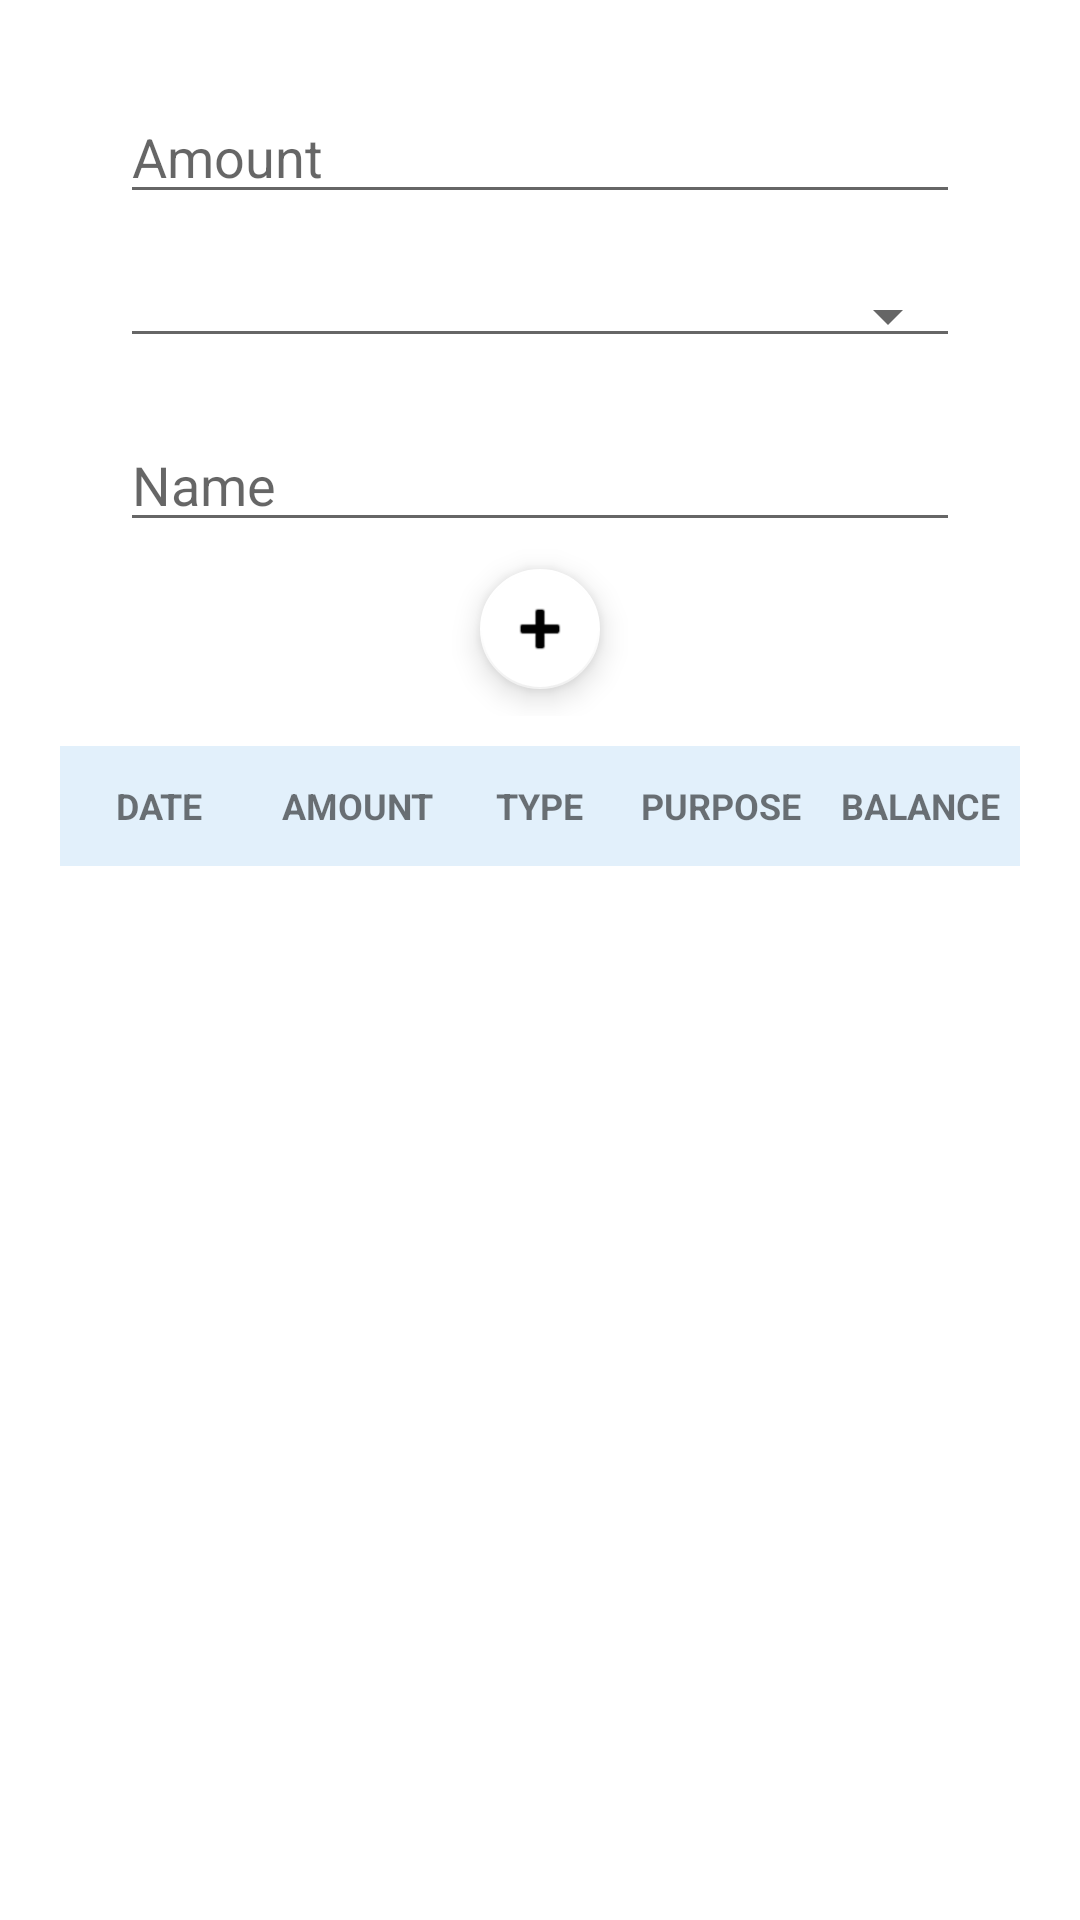

Icon bounding boxes for this 1080 × 1920 phone screenshot, format [x1,y1,x2,y2]:
add: [480,609,600,693]
